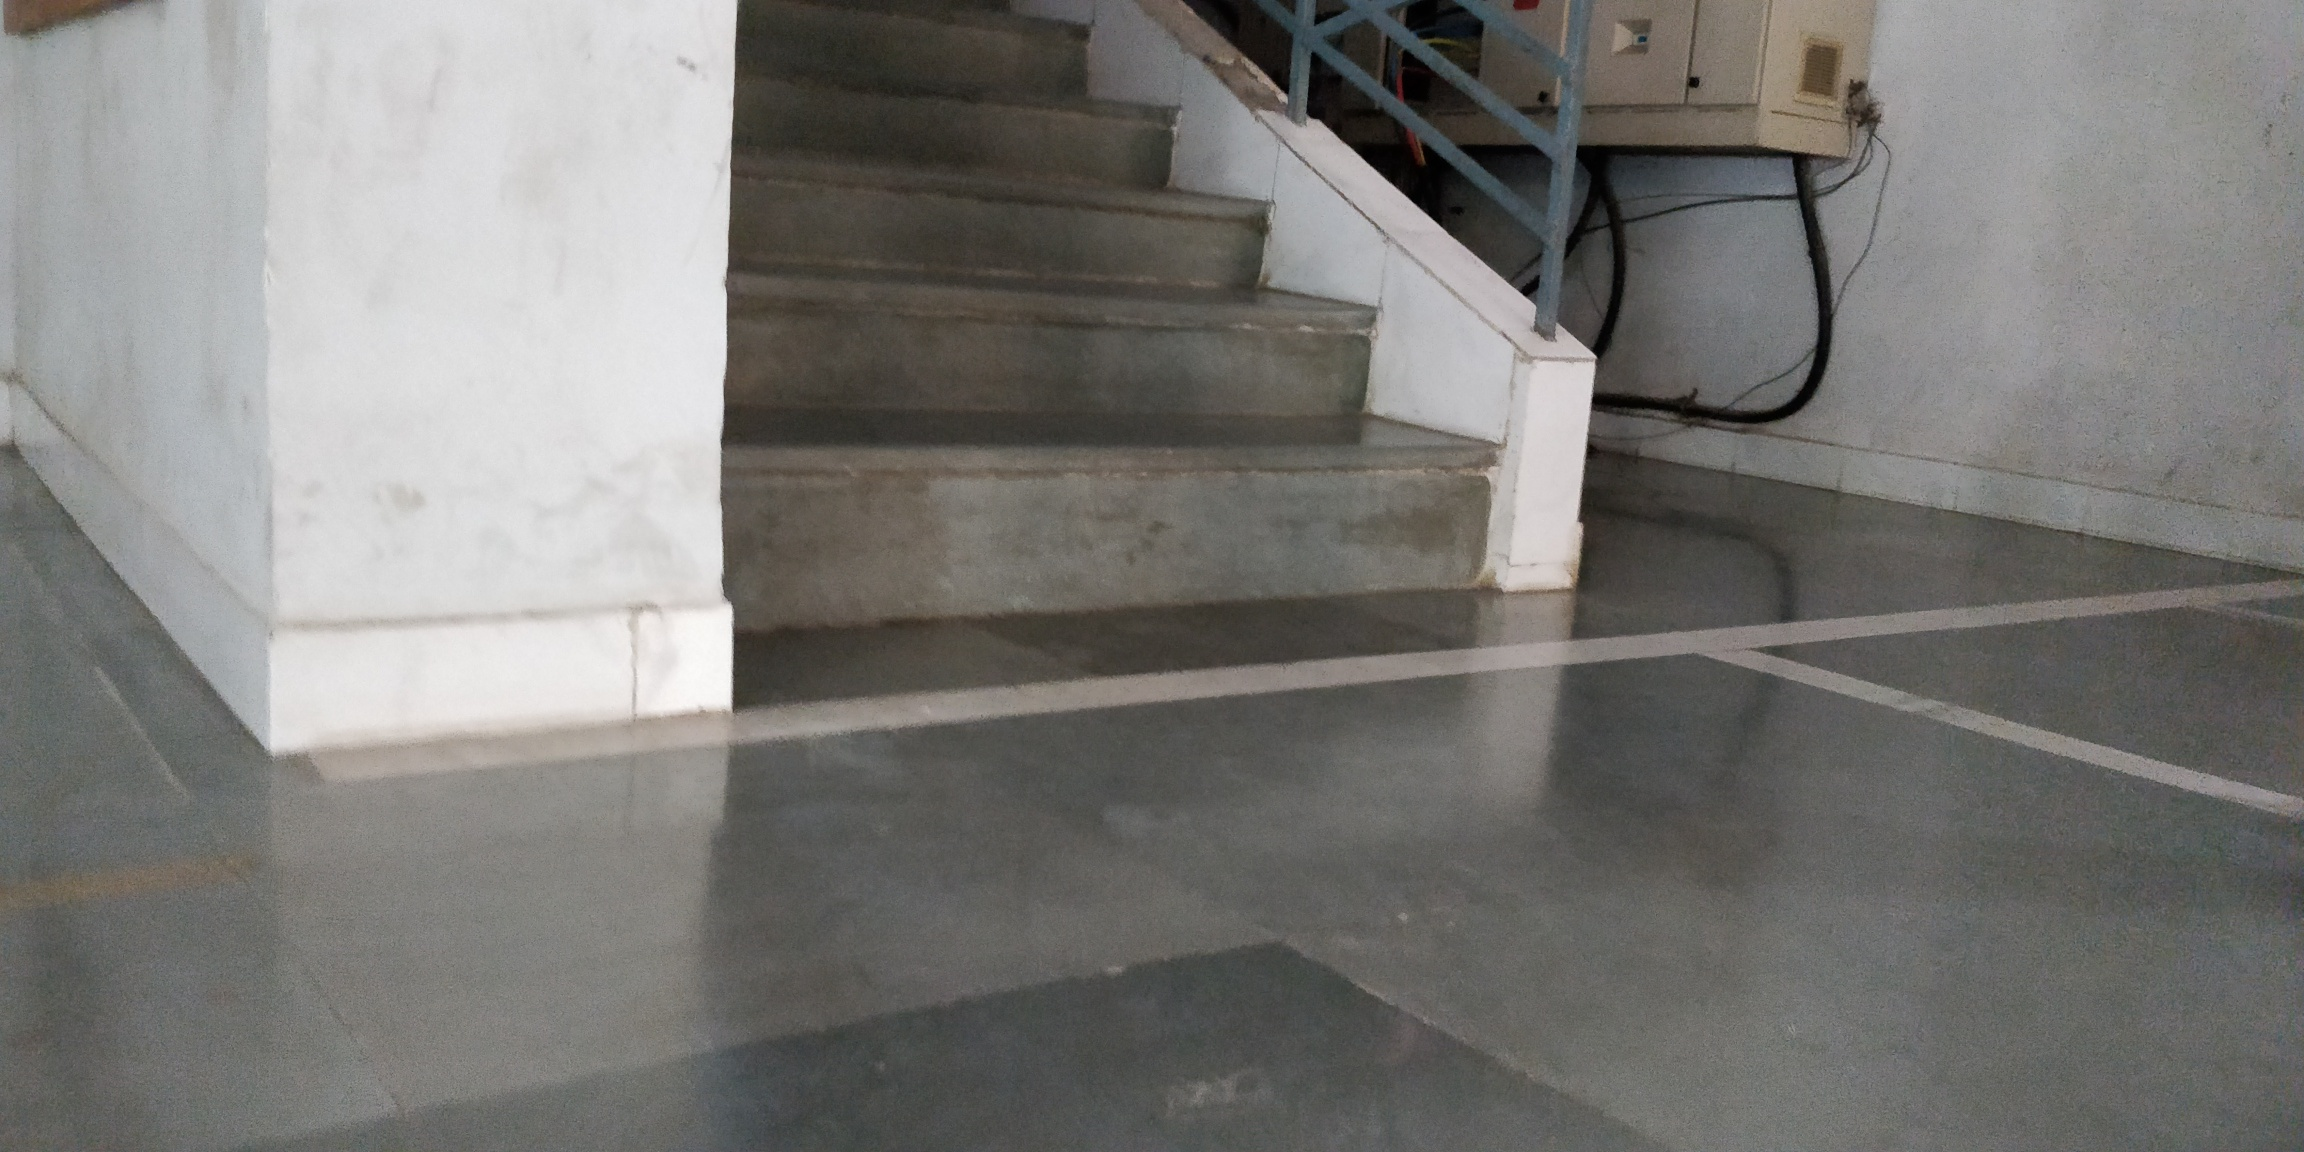stairs_up: (719, 3, 1512, 622)
